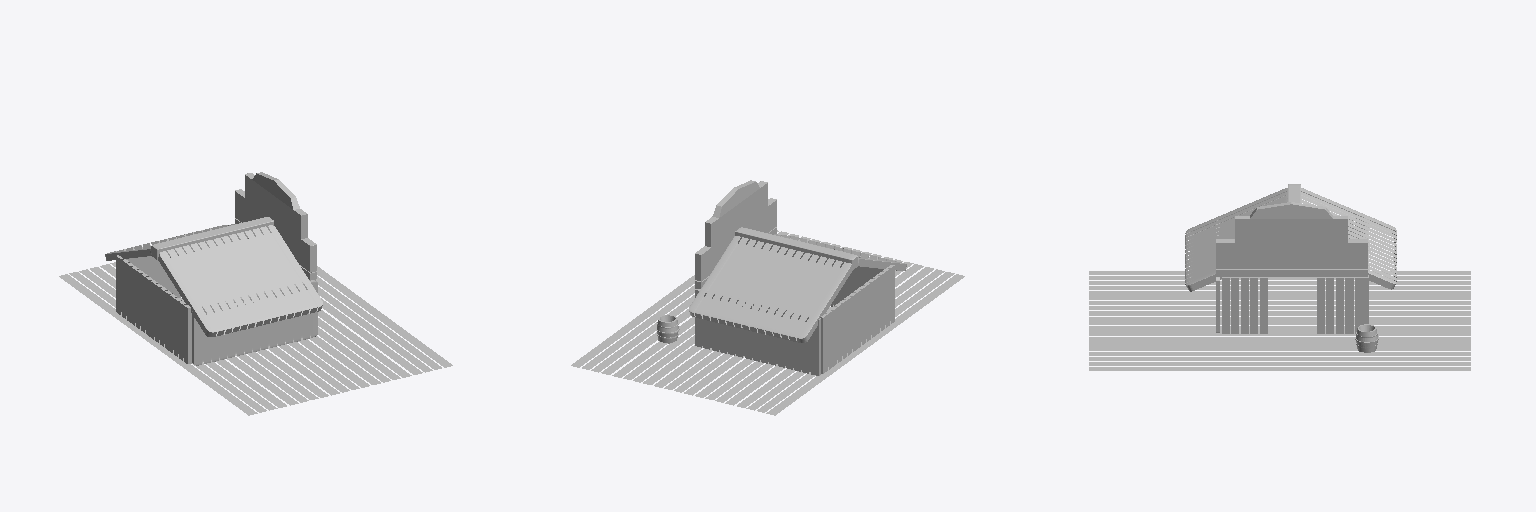
Rendered from Saloon.obj.
The picture shows the model from 3 angles: view 1: azimuth 30°, elevation 25°; view 2: azimuth 150°, elevation 25°; view 3: azimuth 270°, elevation 25°; orthographic projection.
Visible parts, largest first — view 1: Cube.006, Cube.002_Cube.003, Plane.001, Plane.004, Cube.005, Cube_Cube.001, Plane.003, Plane, Plane.002, Cube.008, Cube.001_Cube.002, Cube.007; view 2: Cube.007, Cube.002_Cube.003, Plane.001, Cube.001_Cube.002, Cube.005, Plane.004, Plane.003, Plane, Plane.002, Cube.008, Cube.006, Cube_Cube.001; view 3: Cube.005, Plane.003, Plane.004, Plane.002, Plane, Cube.003_Cube.004, Plane.001, Cube.006, Cube.007, Cube.004_Cube.
Part boxes in pixels (x1,y1,x2,y2): Cube.006: (158, 225, 322, 336); Cube.002_Cube.003: (116, 255, 191, 363); Plane.001: (59, 267, 286, 415); Plane.004: (316, 266, 452, 374); Cube.005: (235, 172, 316, 272); Cube_Cube.001: (192, 280, 317, 365); Plane.003: (310, 310, 411, 384); Plane: (100, 262, 328, 405); Plane.002: (268, 339, 369, 395); Cube.008: (151, 217, 273, 259); Cube.001_Cube.002: (116, 248, 180, 297); Cube.007: (105, 224, 234, 260); Cube.007: (689, 236, 852, 342); Cube.002_Cube.003: (820, 265, 894, 373); Plane.001: (737, 267, 964, 415); Cube.001_Cube.002: (695, 289, 820, 375); Cube.005: (695, 180, 776, 281); Plane.004: (571, 230, 798, 374); Plane.003: (612, 236, 840, 384); Plane: (695, 257, 923, 405); Plane.002: (654, 247, 881, 395); Cube.008: (735, 227, 857, 269); Cube.006: (768, 233, 906, 270); Cube_Cube.001: (781, 236, 883, 306); Cube.005: (1216, 202, 1367, 268); Plane.003: (1089, 331, 1470, 350); Plane.004: (1089, 352, 1470, 370); Plane.002: (1089, 311, 1470, 330); Plane: (1089, 291, 1470, 309); Cube.003_Cube.004: (1222, 277, 1364, 333); Plane.001: (1089, 271, 1470, 289); Cube.006: (1185, 188, 1287, 291); Cube.007: (1301, 188, 1396, 289); Cube.004_Cube: (1216, 269, 1367, 276).
Size of the model in its own units: 37.09 by 22.66 by 59.74.